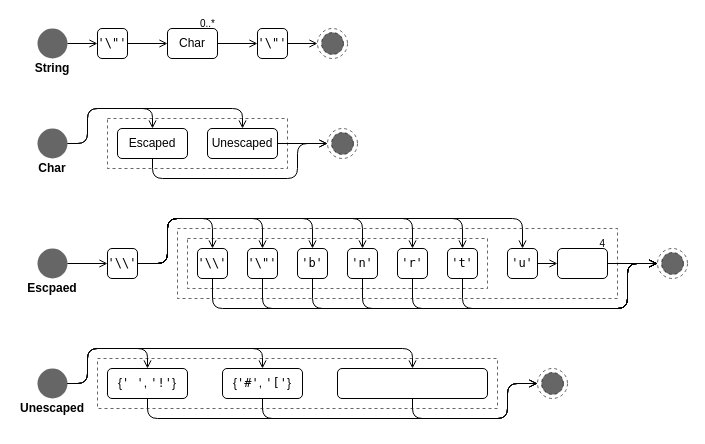
This 705x444 diagram has some shape labels left out. Here are the shapes that lost their labels. From the top down, the centre of each, then its label:
(582,263): Hex
(412,383): { ']' , '\u{10FFFF}' }
